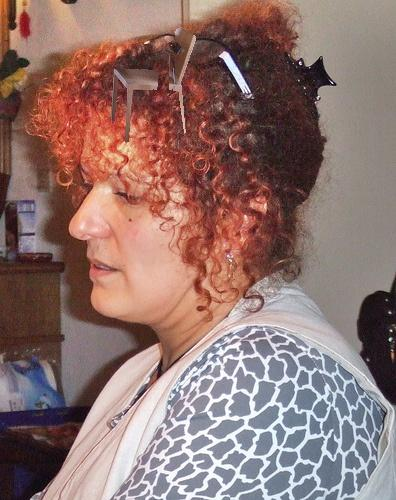tampered: (112, 28, 196, 142)
